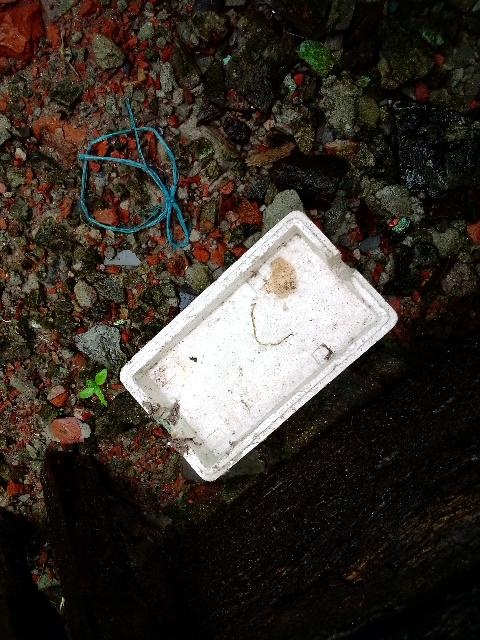cocksheet: (117, 207, 409, 488)
